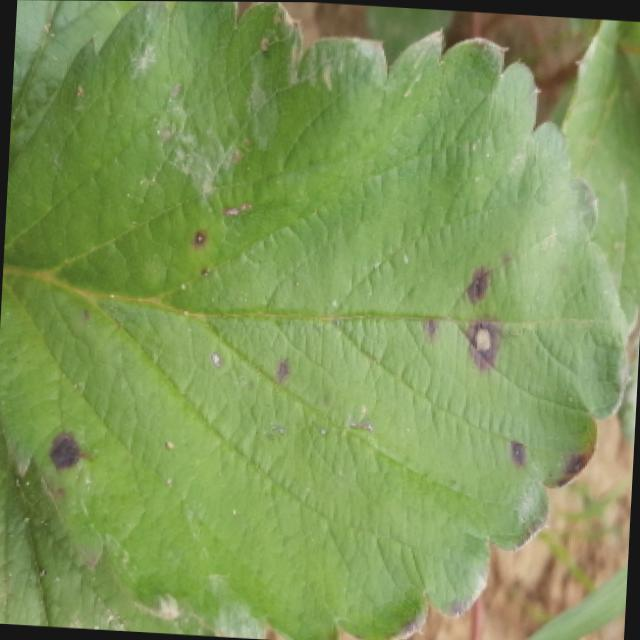Leaf Spot: (0, 1, 628, 640), (0, 421, 209, 636), (8, 0, 134, 164)
